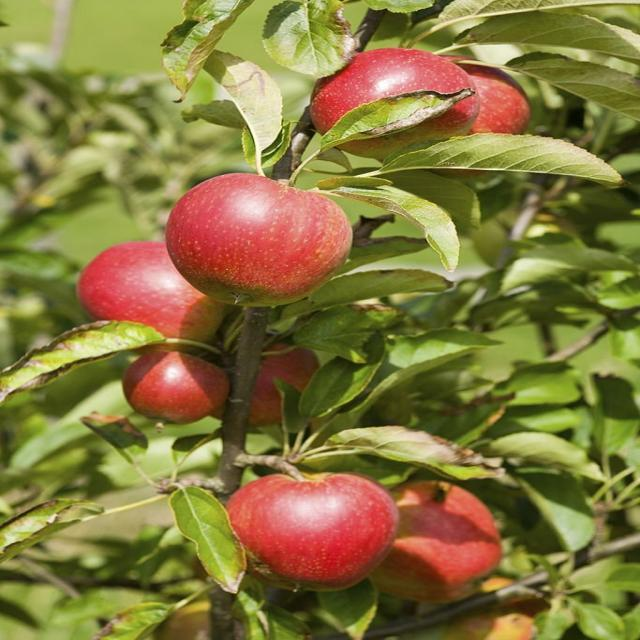Red Apple: (163, 175, 344, 300), (236, 470, 402, 573), (311, 50, 471, 149), (81, 244, 222, 345), (371, 479, 499, 582), (434, 61, 550, 139), (225, 342, 321, 427), (123, 348, 217, 420)
